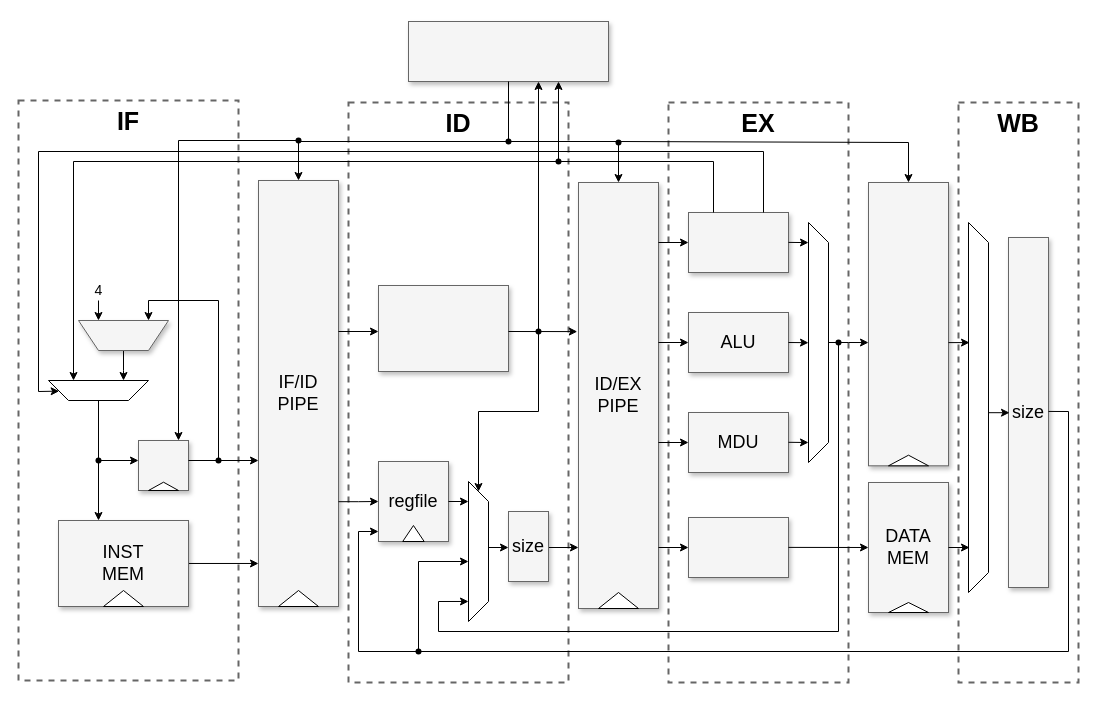
Some shapes in this 1096 by 701 pixel diagram are drawn without their labels. Each missing label, with the centre of its shape:
"adder" goes at pixel 124 337.
"BJU" goes at pixel 739 244.
"decode" goes at pixel 444 329.
"EX/WB PIPE" goes at pixel 909 325.
"LSU" goes at pixel 739 548.
"PC" goes at pixel 164 467.
"PCU" goes at pixel 509 52.
